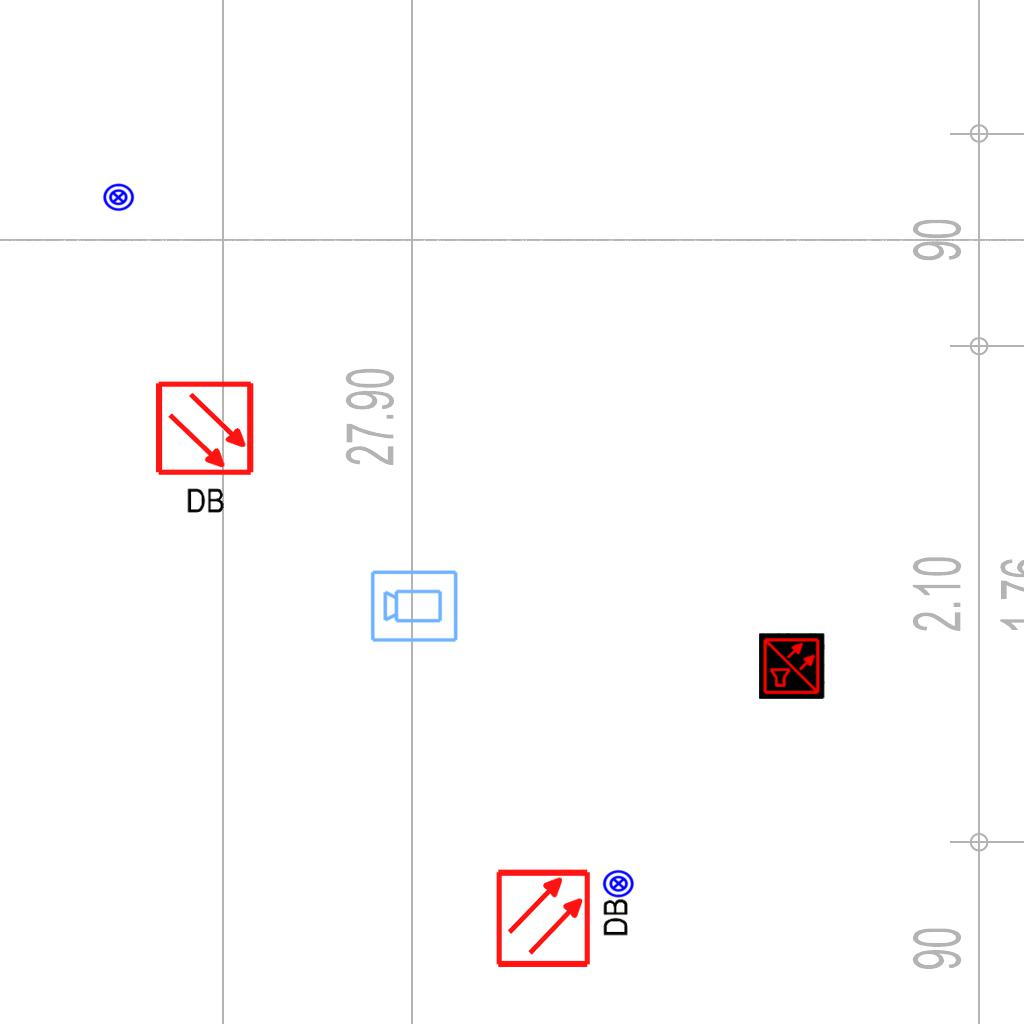DB_Melder_in_Doppelboden_mit_Revisionsoeffnung_mind_40_x_40_cm: (149, 374, 263, 523), (489, 860, 638, 974)
KFO_Kamera_mit_Festobjektiv: (369, 567, 460, 644)
OKW_Multisensormelder_(Kombination_optischer_Rauch-Kahlenmonoxid_Waerme-Melder): (759, 633, 825, 699)
Taster_beleuchtet: (102, 181, 135, 214), (602, 867, 635, 900)
